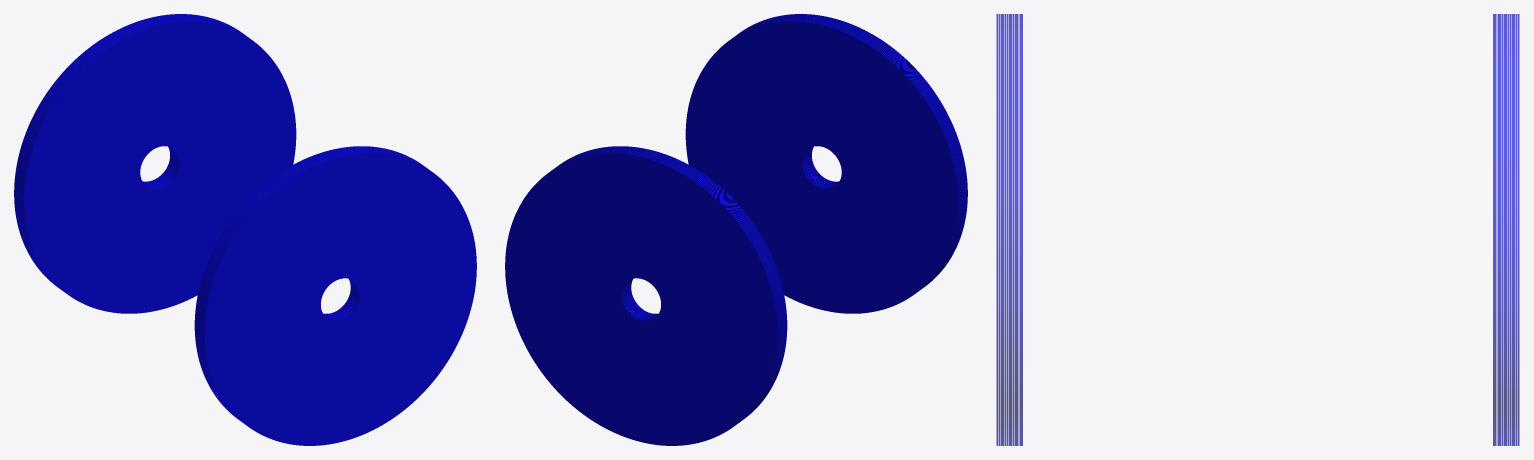
Rendered from ECalEndcap.gltf.
3 renders of one model, left to right at view 1: azimuth 30°, elevation 25°; view 2: azimuth 150°, elevation 25°; view 3: azimuth 270°, elevation 25°, orthographic. The views are drawn at different scales.
Parts seen in each view (by area): view 1: ECalEndcap; view 2: ECalEndcap; view 3: ECalEndcap.
Part boxes in pixels (x1,y1,x2,y2): ECalEndcap: (14, 14, 476, 445); ECalEndcap: (505, 14, 967, 445); ECalEndcap: (996, 14, 1519, 445).
Bounding box in the file's own units: 4249 × 4249 × 5150.
